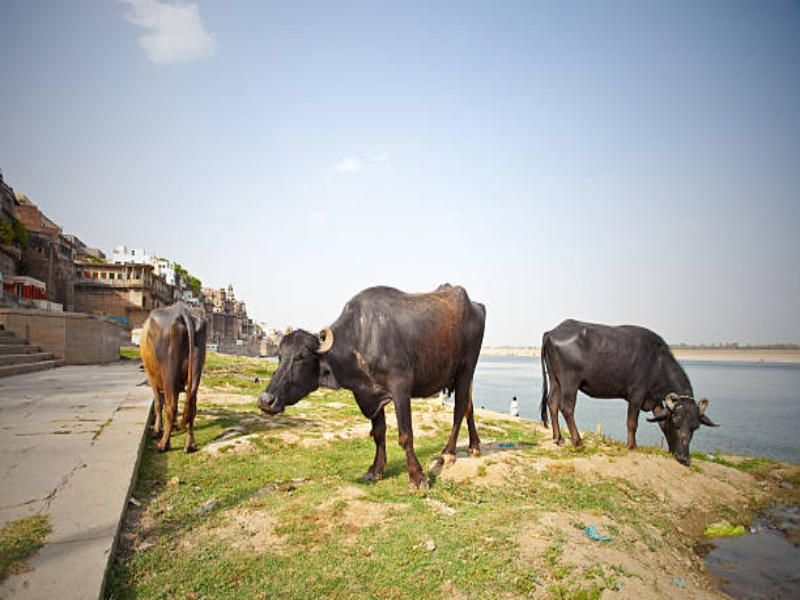buffalo: (257, 280, 499, 491)
